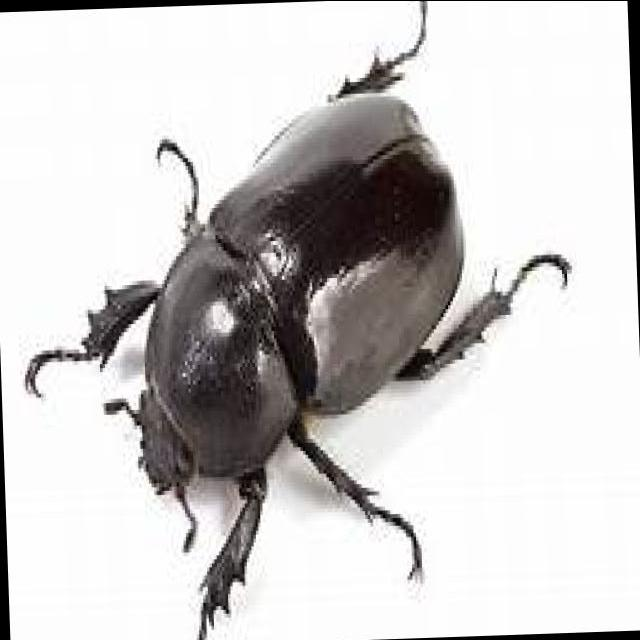Rhino-beetle: (50, 11, 538, 596)
